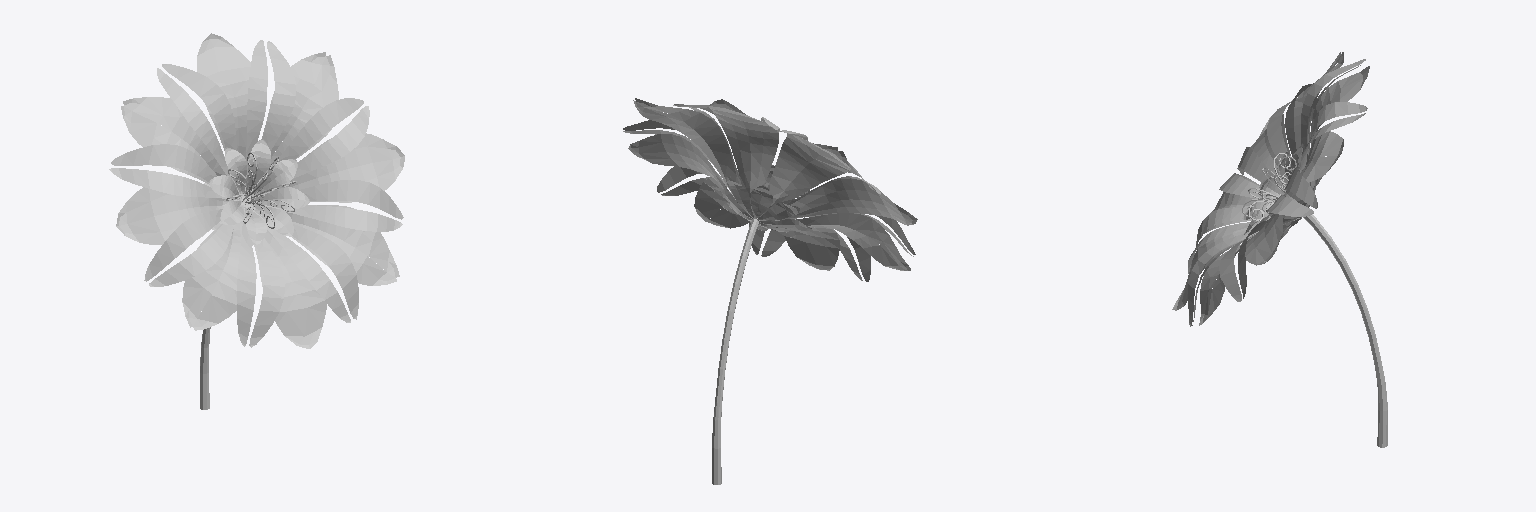
Rendered from tree_large.obj.
The picture shows the model from 3 angles: view 1: azimuth 30°, elevation 25°; view 2: azimuth 150°, elevation 25°; view 3: azimuth 270°, elevation 25°; orthographic projection.
Parts seen in each view (by area): view 1: Tree_Flower_Large_Plane.007; view 2: Tree_Flower_Large_Plane.007; view 3: Tree_Flower_Large_Plane.007.
Part boxes in pixels (x1,y1,x2,y2): Tree_Flower_Large_Plane.007: (109, 33, 404, 409); Tree_Flower_Large_Plane.007: (623, 98, 917, 484); Tree_Flower_Large_Plane.007: (1172, 52, 1387, 447).
Size of the model in its own units: 8.04 by 10.08 by 5.2.